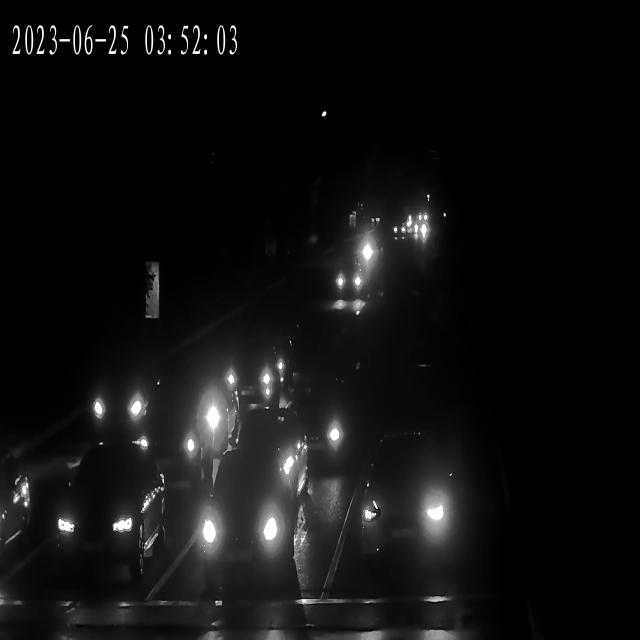Car: (182, 459, 308, 599), (48, 454, 172, 578), (348, 435, 463, 567), (155, 378, 237, 471), (278, 385, 354, 467), (83, 367, 151, 434), (219, 333, 284, 403), (0, 457, 37, 573), (330, 261, 370, 297), (352, 235, 378, 260), (390, 224, 410, 239), (409, 228, 429, 243), (412, 210, 432, 225), (391, 221, 410, 236)
